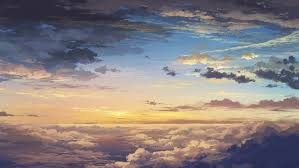sky: (3, 2, 299, 167)
